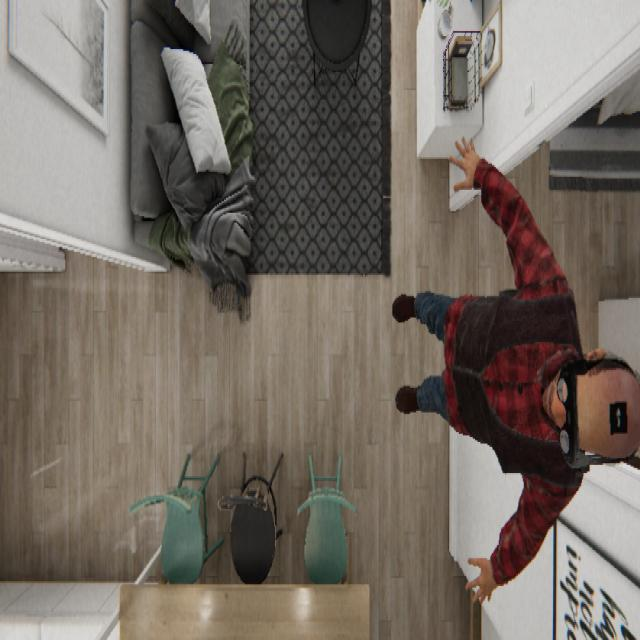Human: (391, 133, 639, 604)
UnityLogo: (608, 396, 628, 437)
